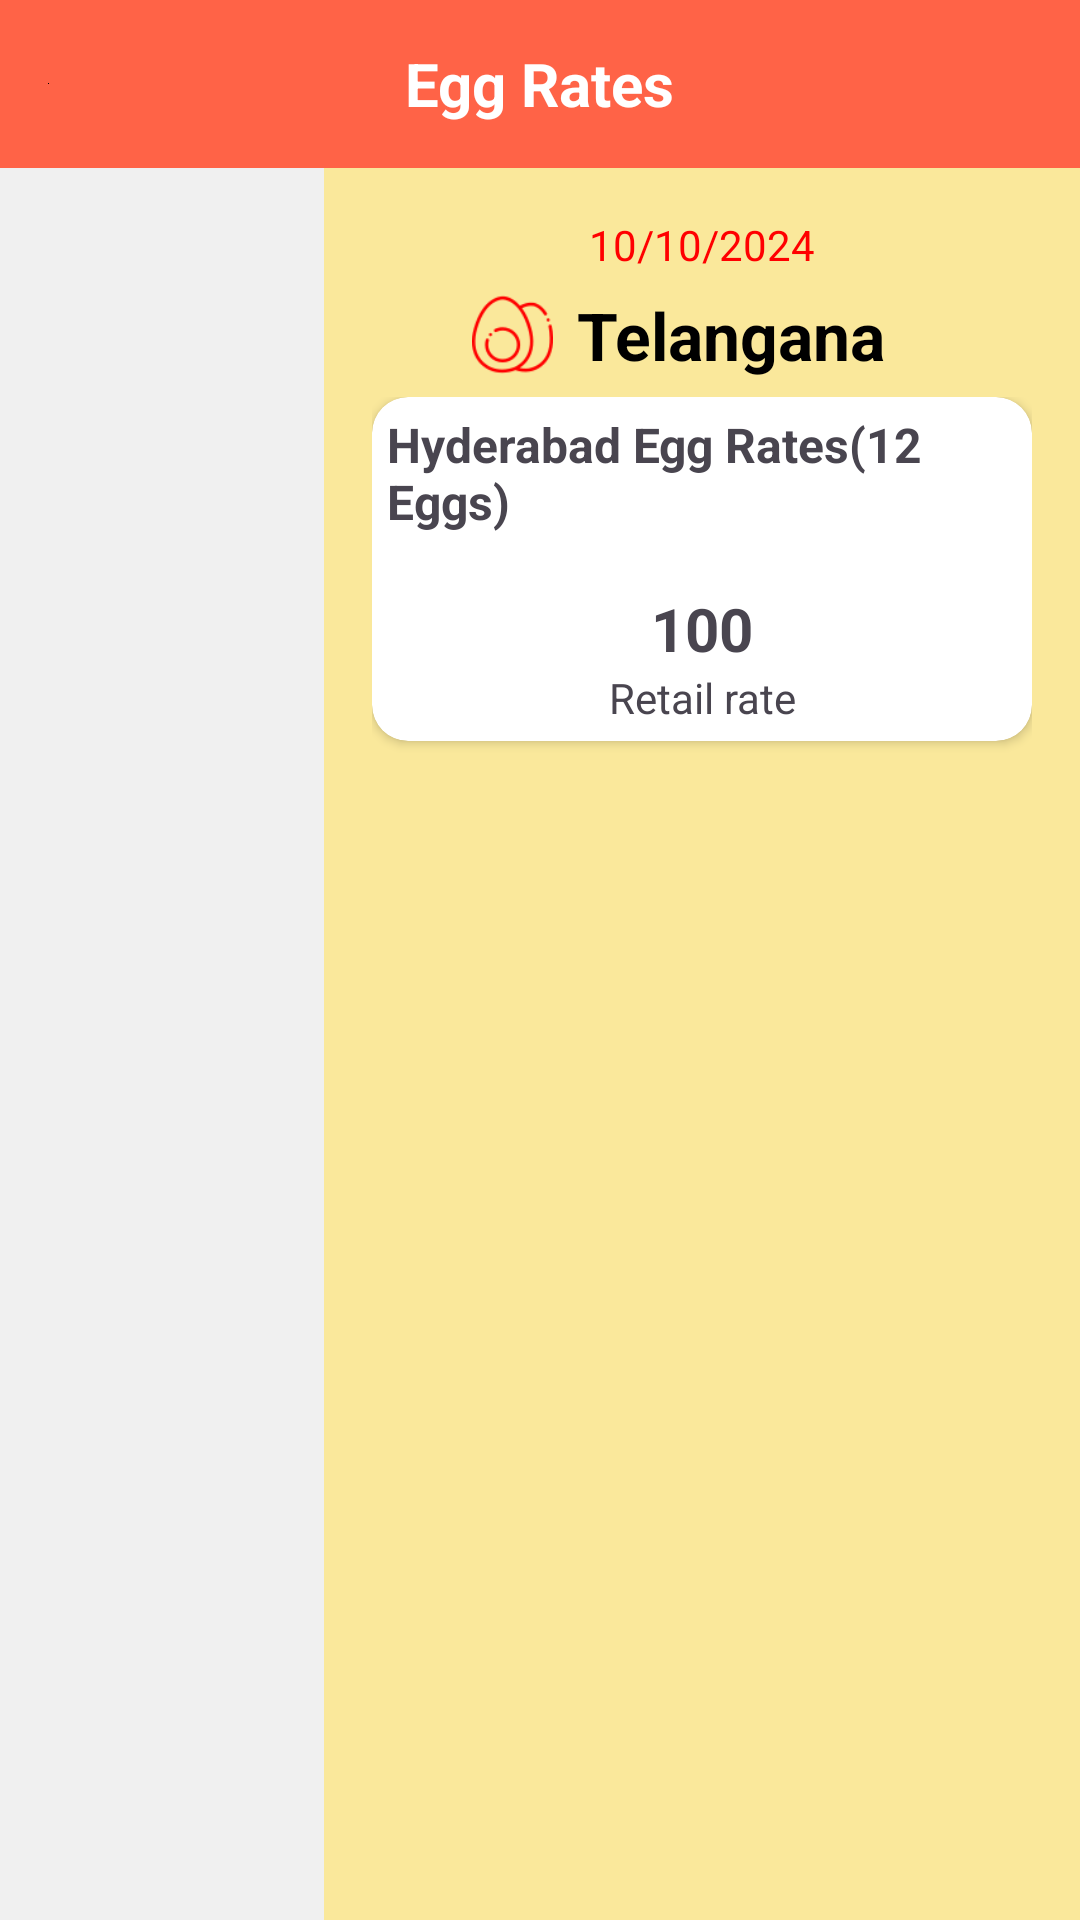

Icons on this 1080 x 1920 Android screen, each with its box as (x1, y1, x2, y2):
egg rate side: (472, 296, 553, 373)
